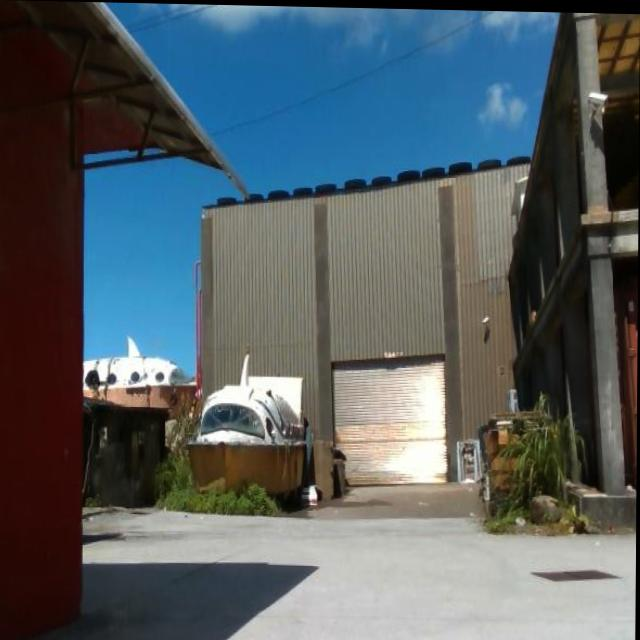pollute: (456, 385, 543, 520), (297, 434, 348, 508)
